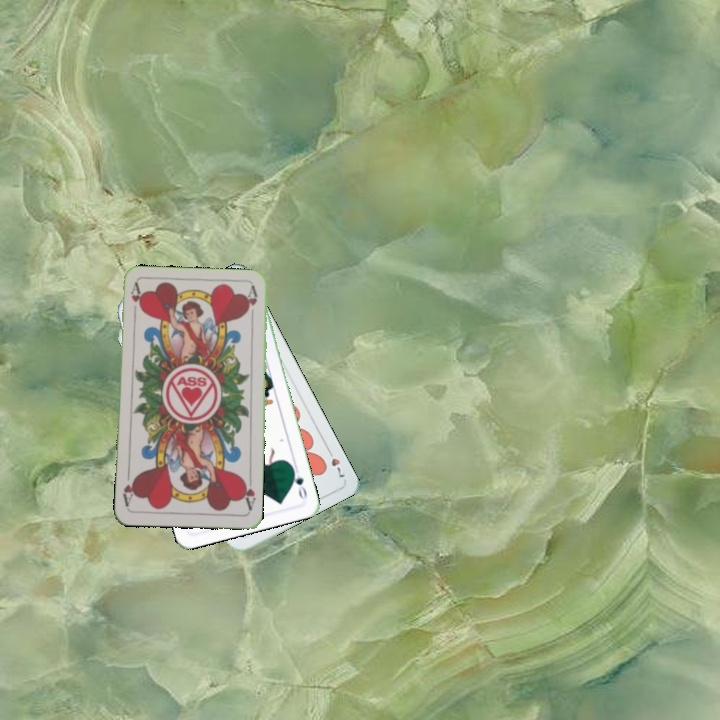GO: (288, 462, 310, 502)
H7: (323, 444, 348, 480)
HA: (238, 473, 258, 513), (127, 280, 144, 321)
